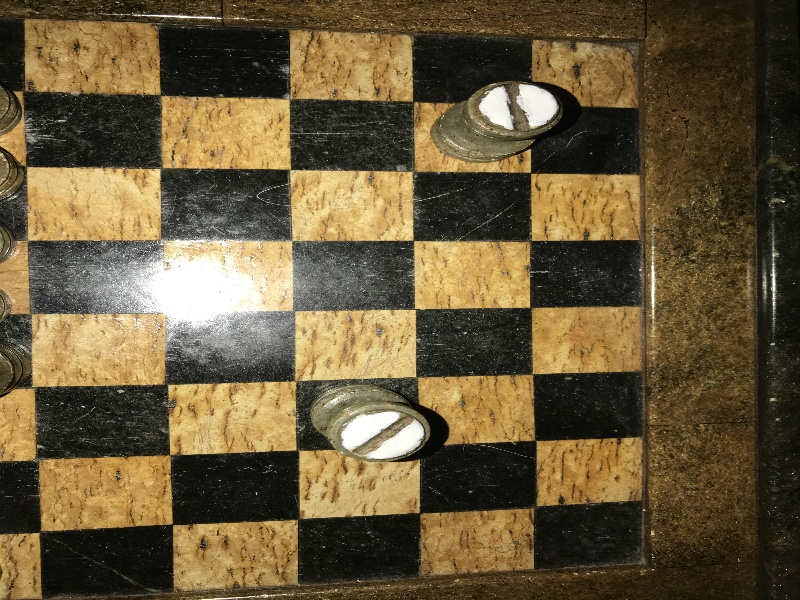WhiteRook: (431, 81, 562, 162), (309, 382, 428, 461)
